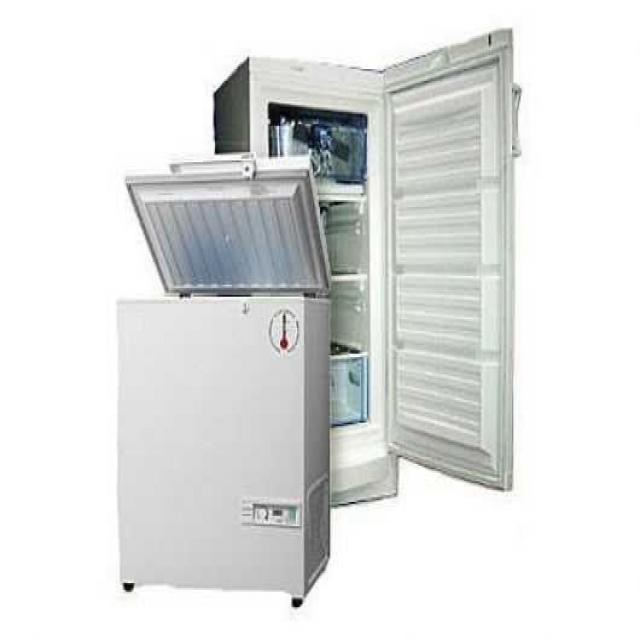refrigerator: (248, 54, 399, 498), (116, 294, 322, 611)
